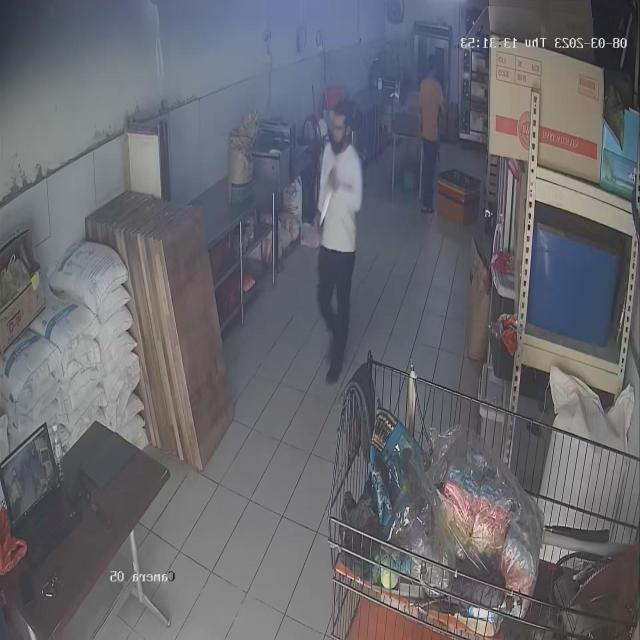Knife: (310, 165, 348, 235)
